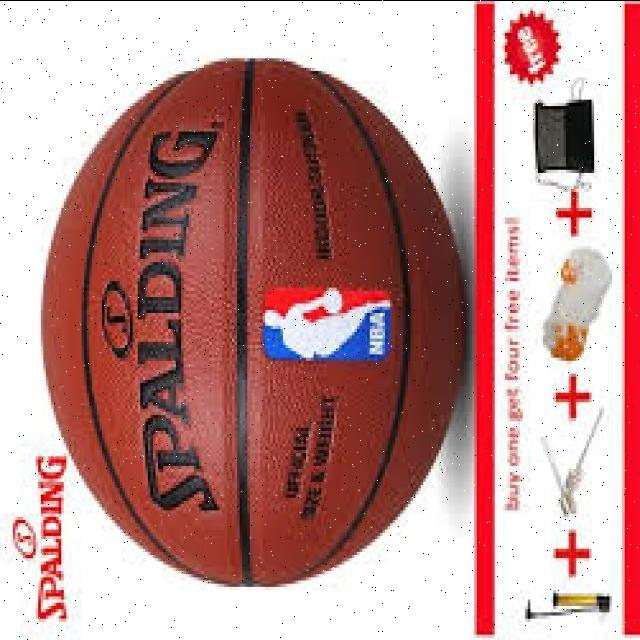ball: (42, 59, 464, 586)
